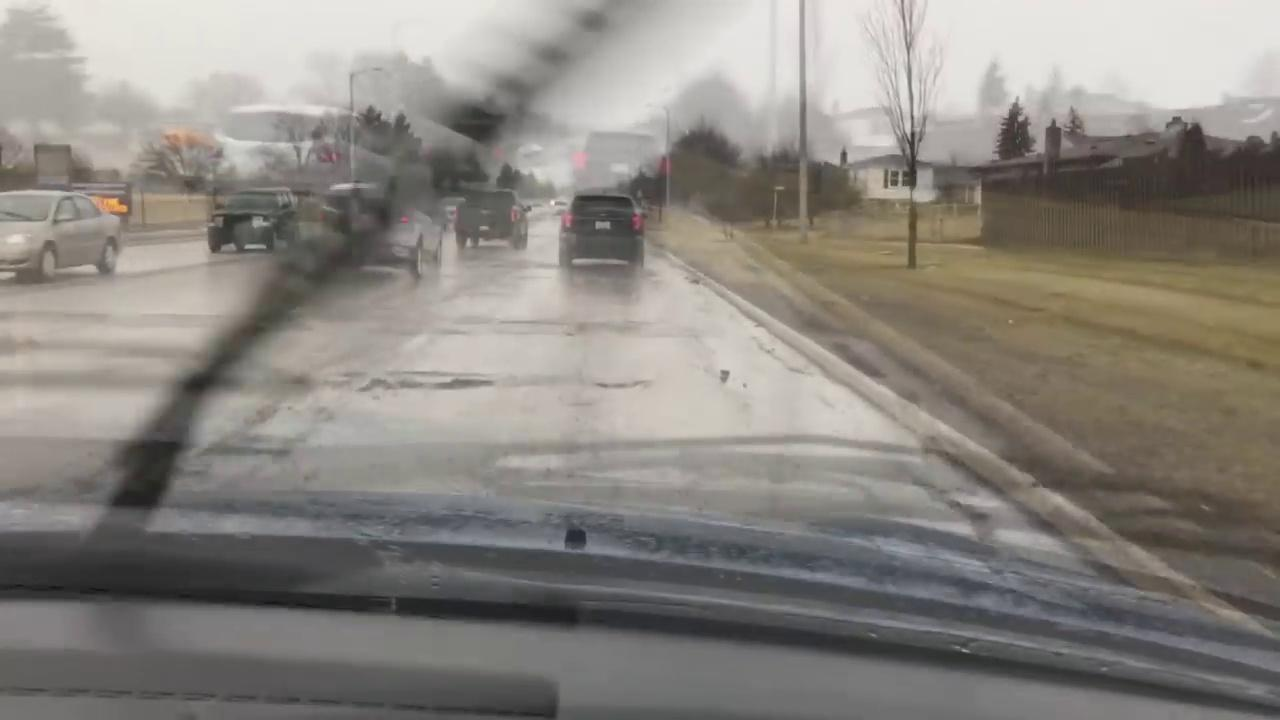pothole: (380, 366, 462, 391)
